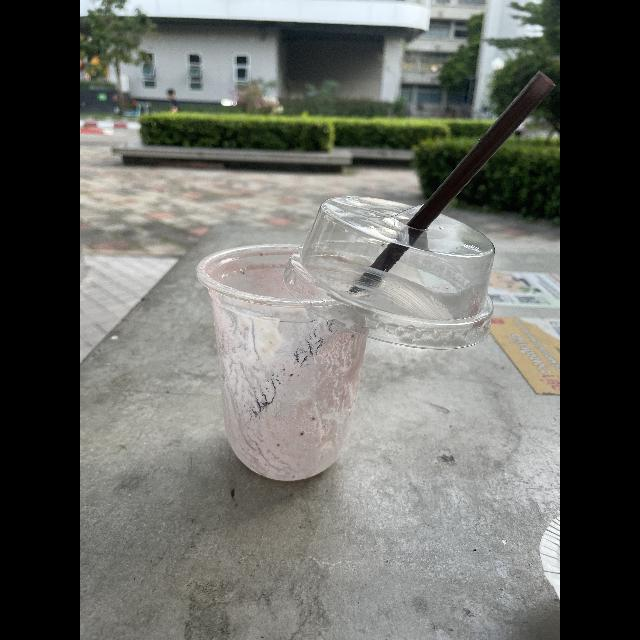plastic_cup: (186, 239, 378, 485)
plastic_cup_lid: (294, 185, 496, 331)
straw: (233, 57, 560, 430)
